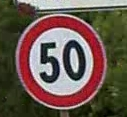limite 50: (12, 14, 109, 108)
